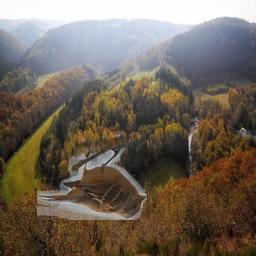Sparrow: (37, 131, 147, 220)
